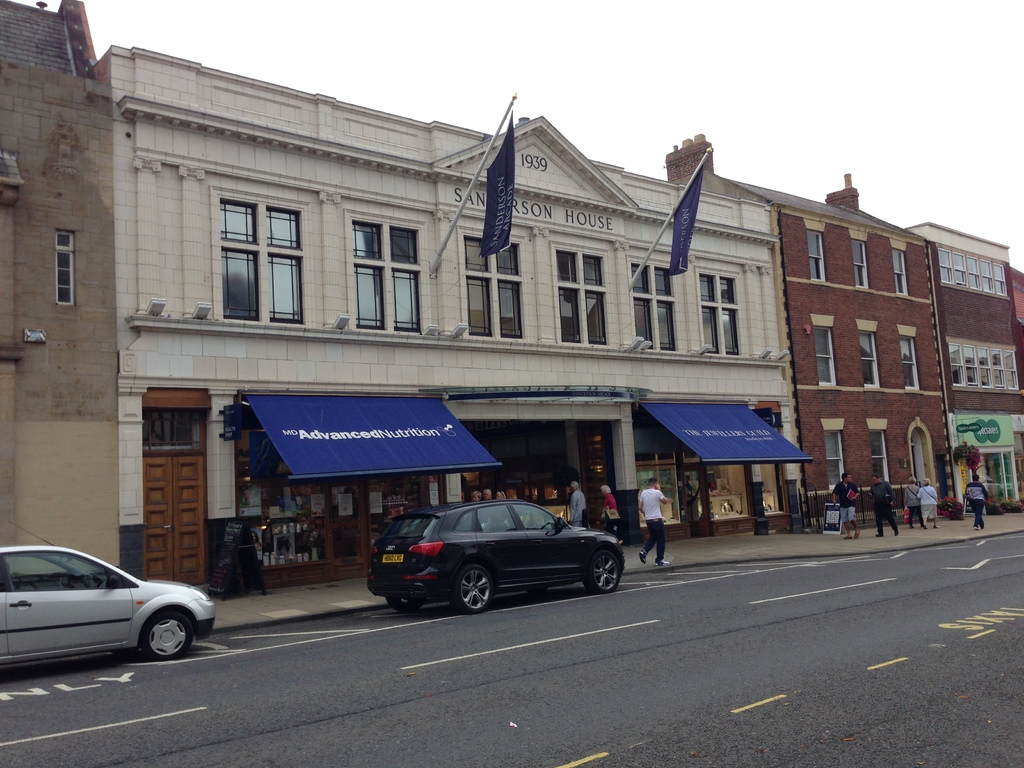Car: (360, 494, 627, 620), (0, 517, 218, 660)
